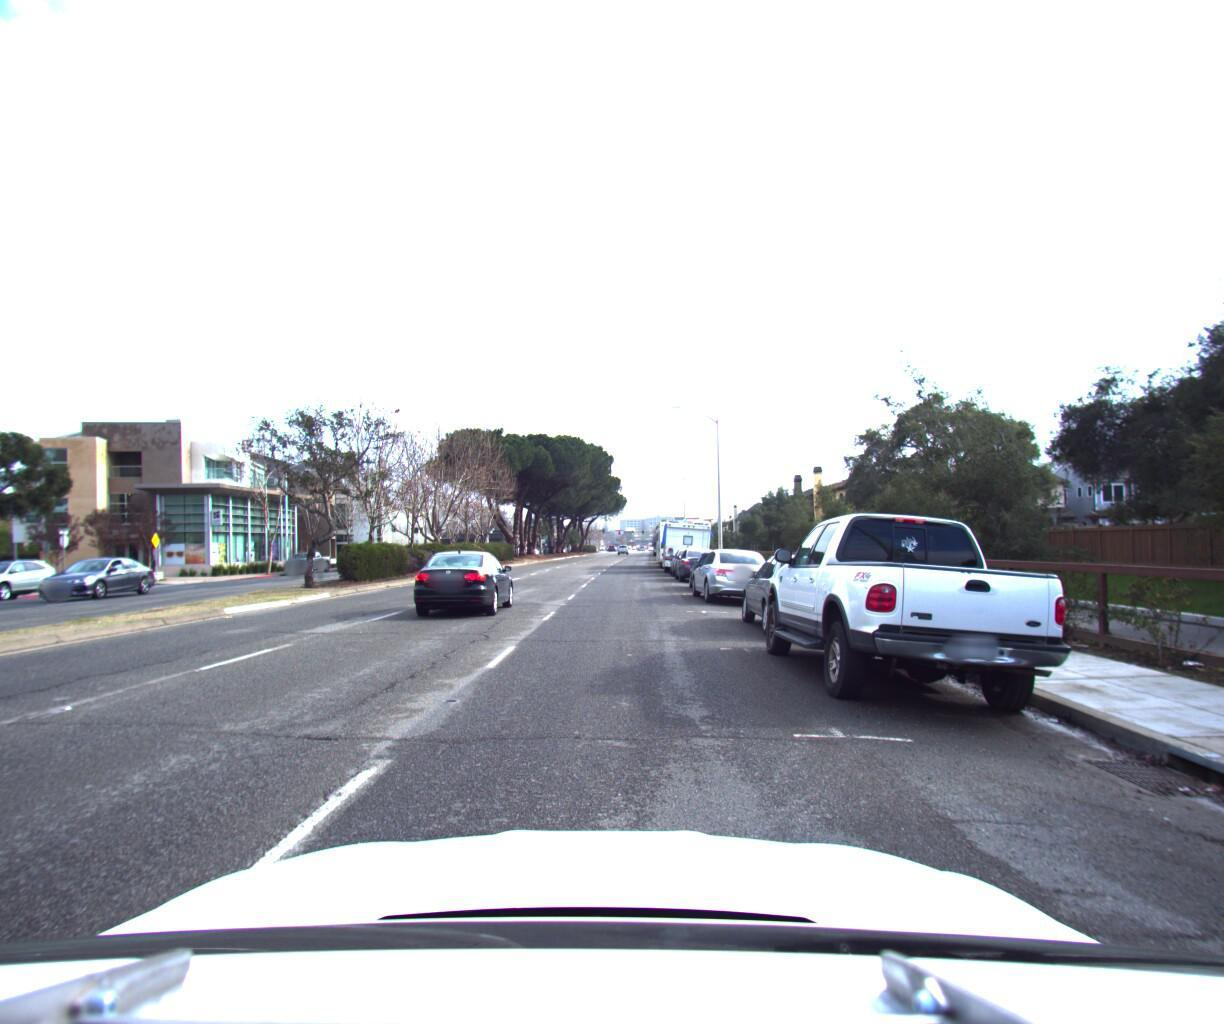car: (755, 497, 1083, 734), (730, 543, 874, 644), (410, 543, 519, 618), (30, 550, 160, 599), (685, 539, 779, 603), (683, 542, 750, 588), (671, 537, 722, 577), (279, 542, 333, 567)
other_vehicle: (659, 509, 711, 568), (653, 505, 701, 563)
